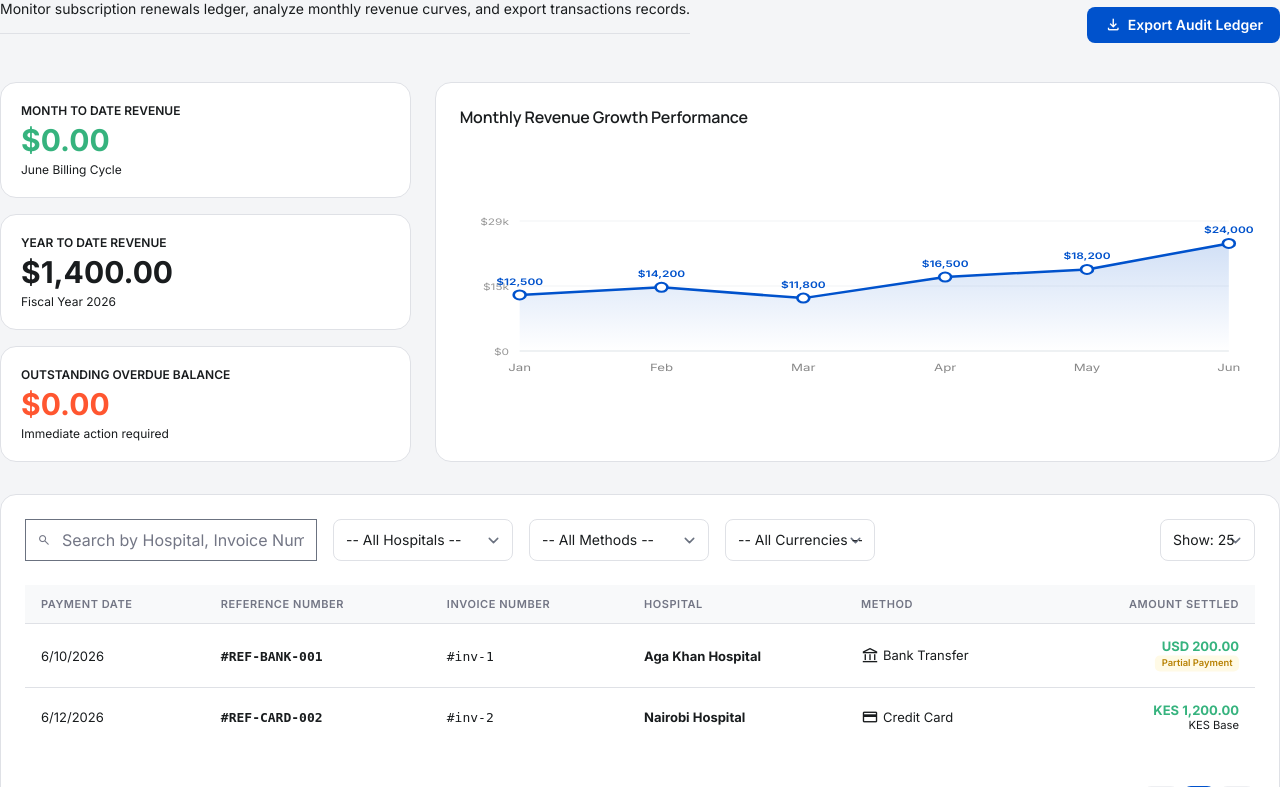
Scenario: PaymentsPage › filters payments list by dropdowns
Select "Nairobi Hospital" in the 1st dropdown. click: (423, 540)
box: [333,519,513,561]
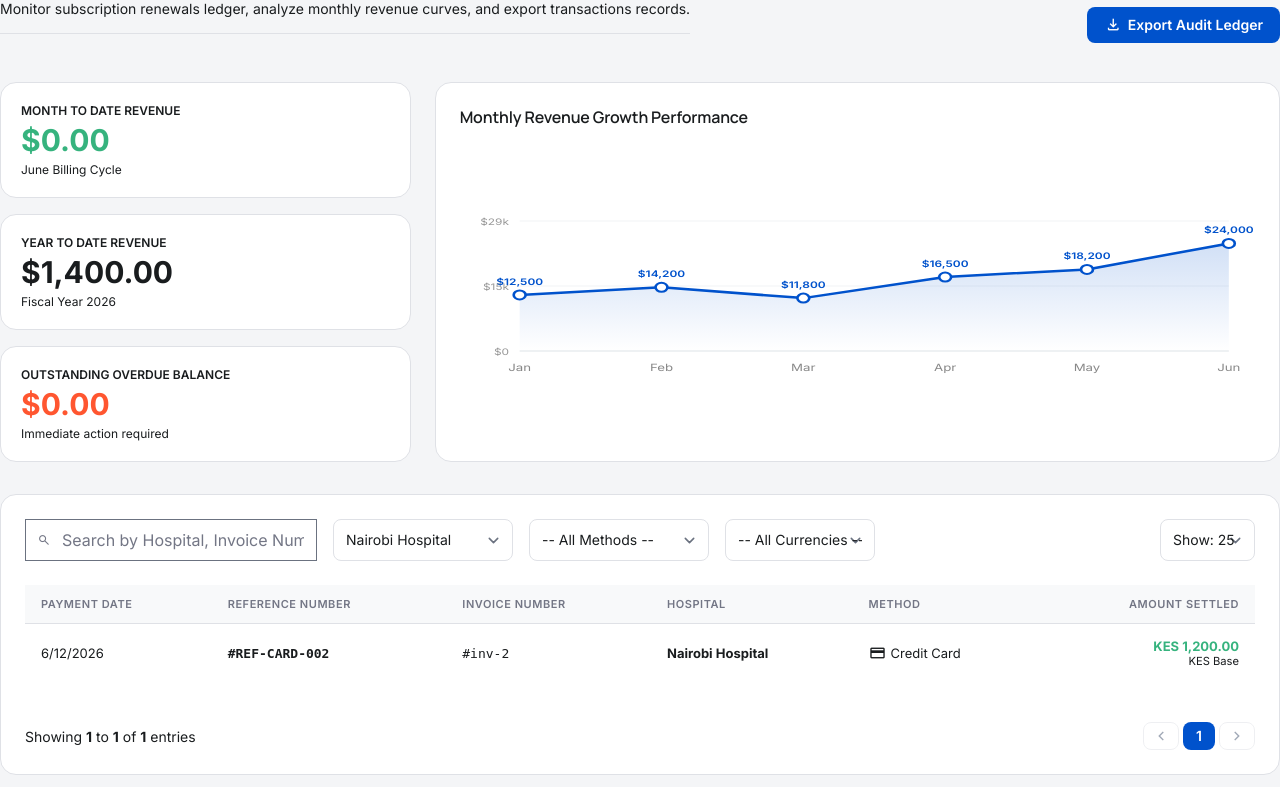
Expected: the text "#REF-CARD-002" is shown, [228,646,330,661]
Expected: the text "#REF-BANK-001" is gone
Note: Reset hospital filter
Select "-- All Hospitals --" in the 1st dropdown. click: (423, 540)
box: [333,519,513,561]
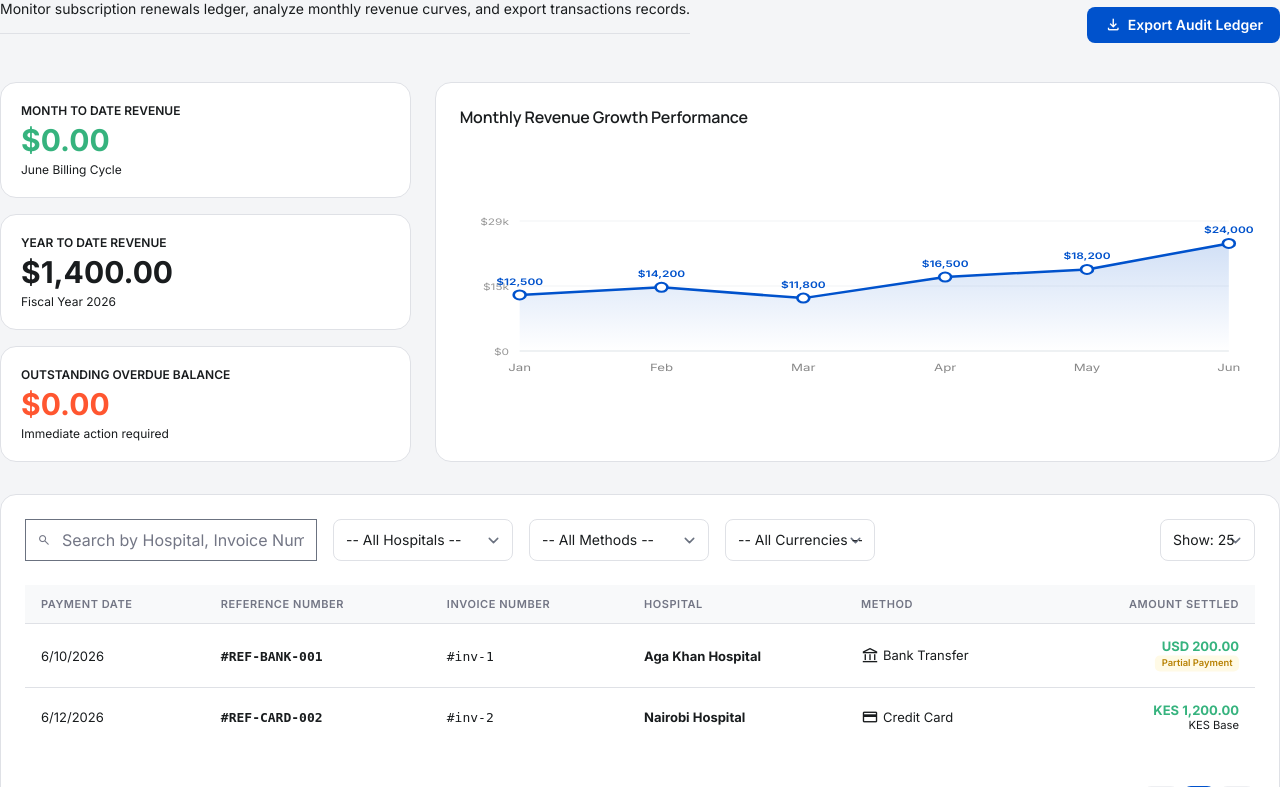
Note: Filter by method
Select "Mobile Money" in the 2nd dropdown. click: (619, 540)
box: [529,519,709,561]
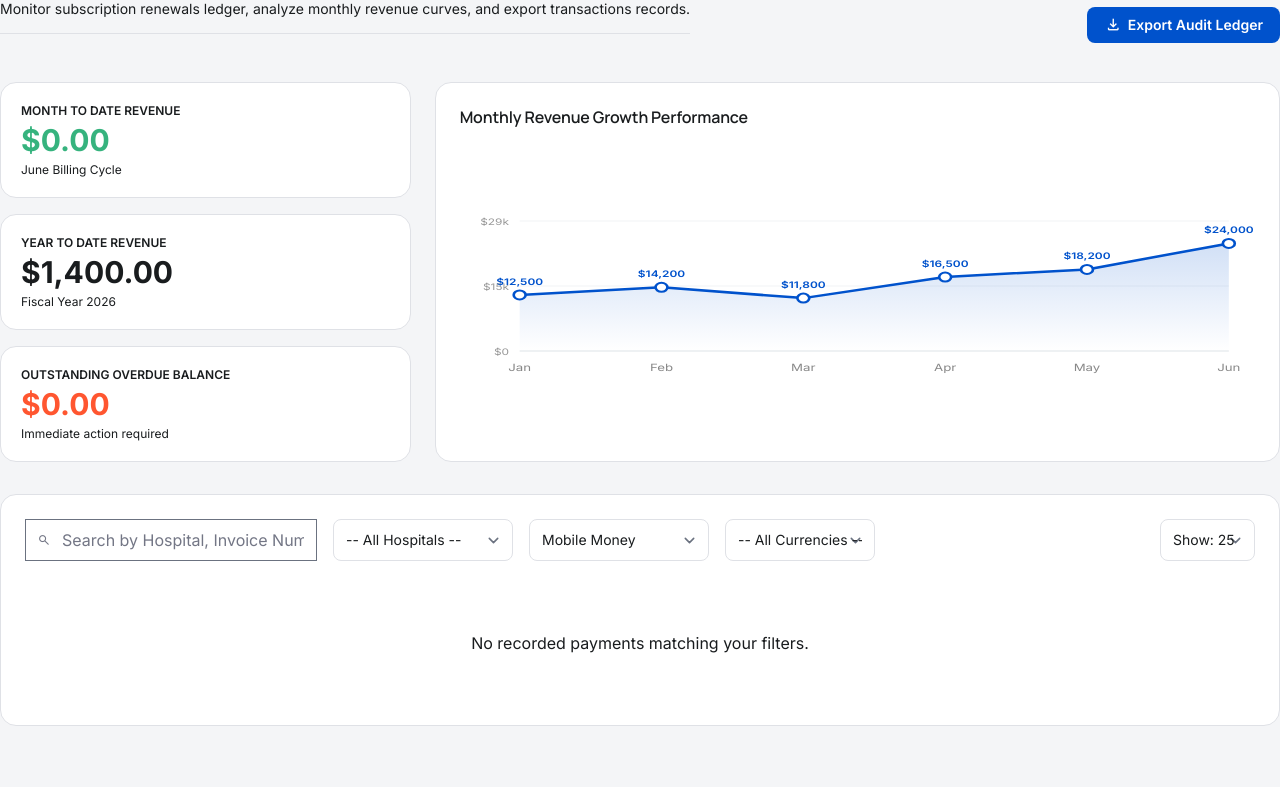
Expected: the text "No recorded payments matching your filters." is shown, [471,633,809,653]
